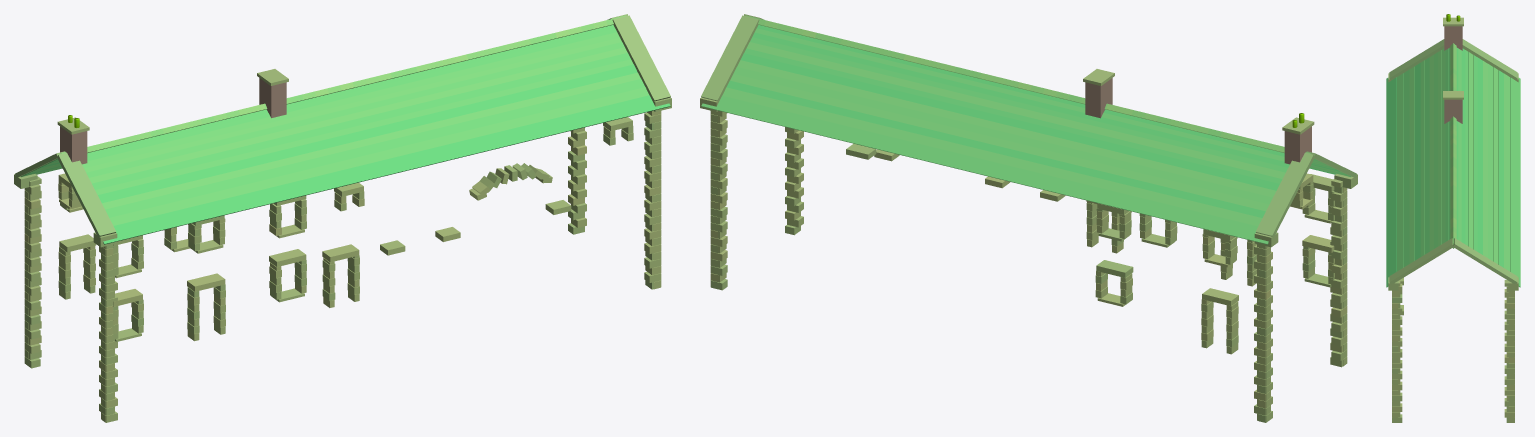
File: SM_Bld_230_Stone.glb
3 views of the same model, side by side, from view 1: azimuth 30°, elevation 25°; view 2: azimuth 150°, elevation 25°; view 3: azimuth 270°, elevation 25° (orthographic). The views are drawn at different scales.
Visible parts, largest first — view 1: SM_Bld_230_Stone; view 2: SM_Bld_230_Stone; view 3: SM_Bld_230_Stone.
Boxes of the visible parts, <box> form: SM_Bld_230_Stone: <box>14,14,671,422</box>; SM_Bld_230_Stone: <box>700,14,1357,422</box>; SM_Bld_230_Stone: <box>1386,14,1520,422</box>.
Bounding box in the file's own units: 24.8 × 11.39 × 6.7.
